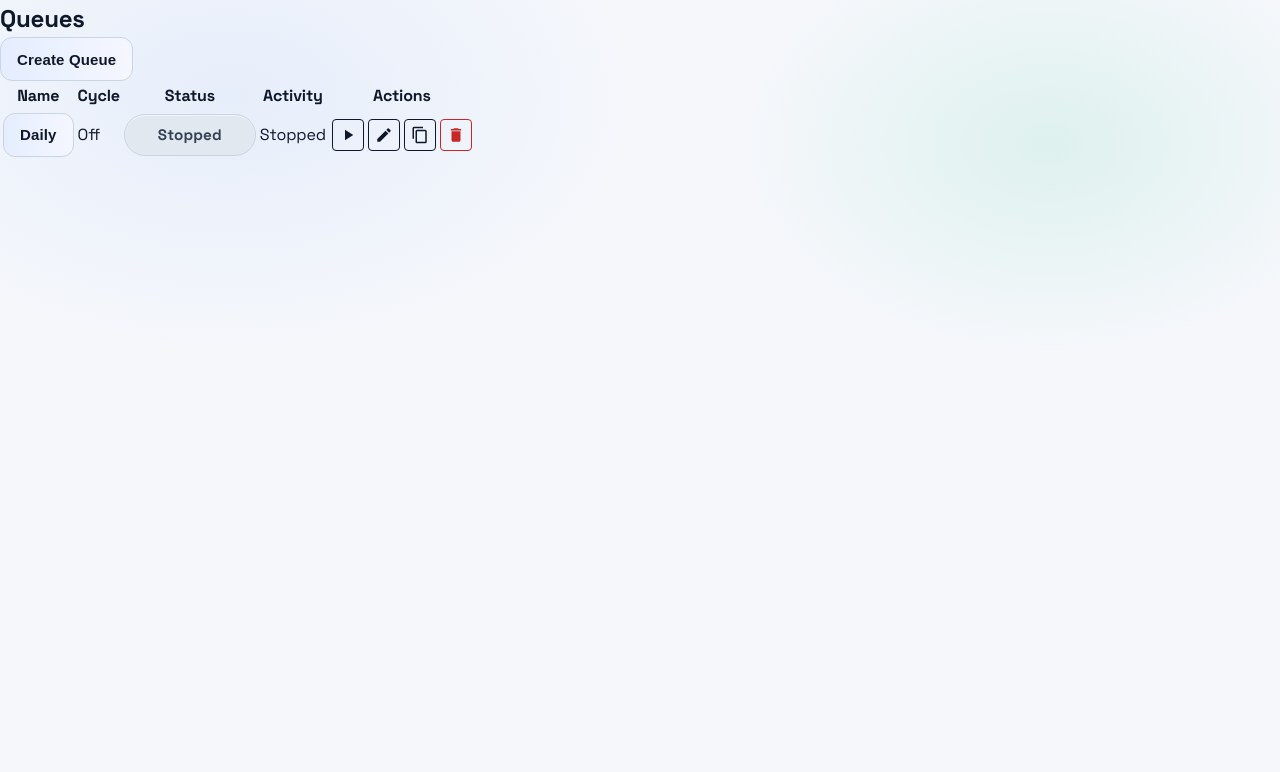
QueuesPage auto-load on open (US1) › shows "(no template)" when opening an unlinked queue
Click the button "Daily" at (38,135), box [3, 113, 74, 157]
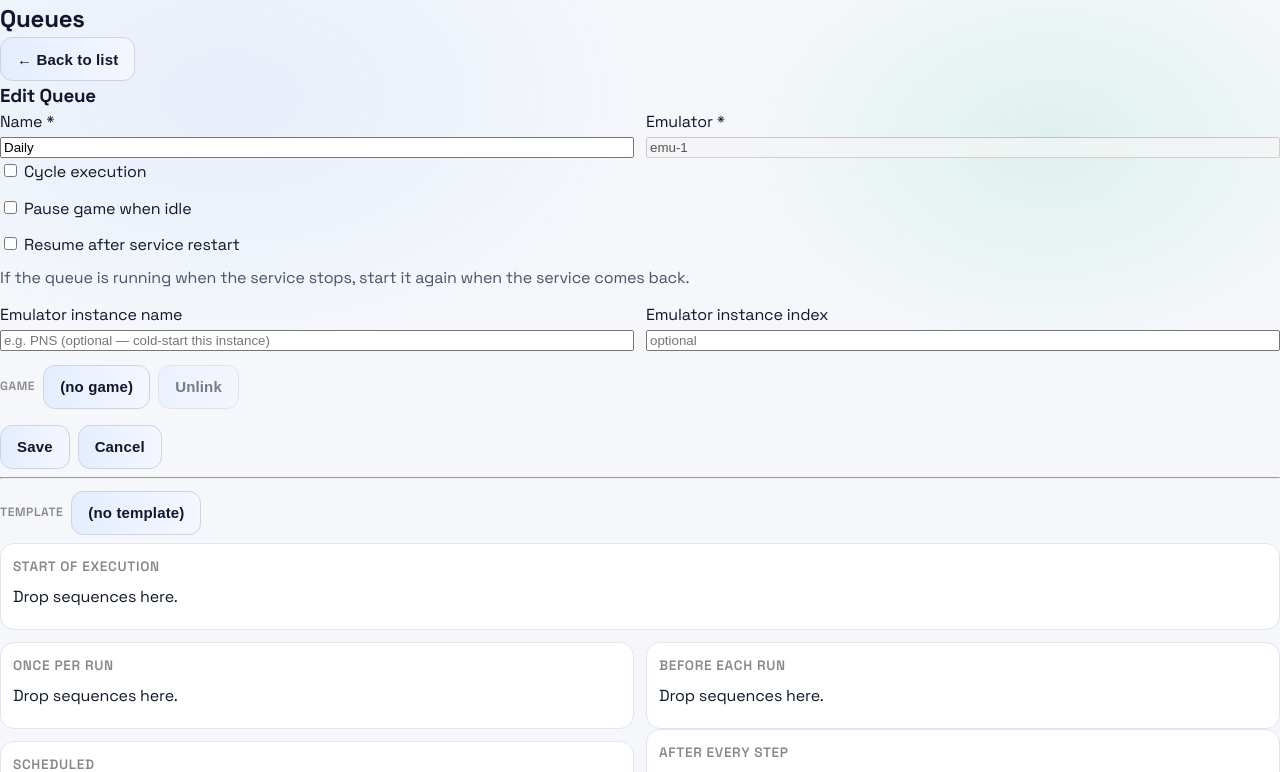
Result: the heading "Edit Queue" is shown at [0, 84, 96, 107]
Result: the button "(no template)" is shown at [71, 491, 201, 535]
